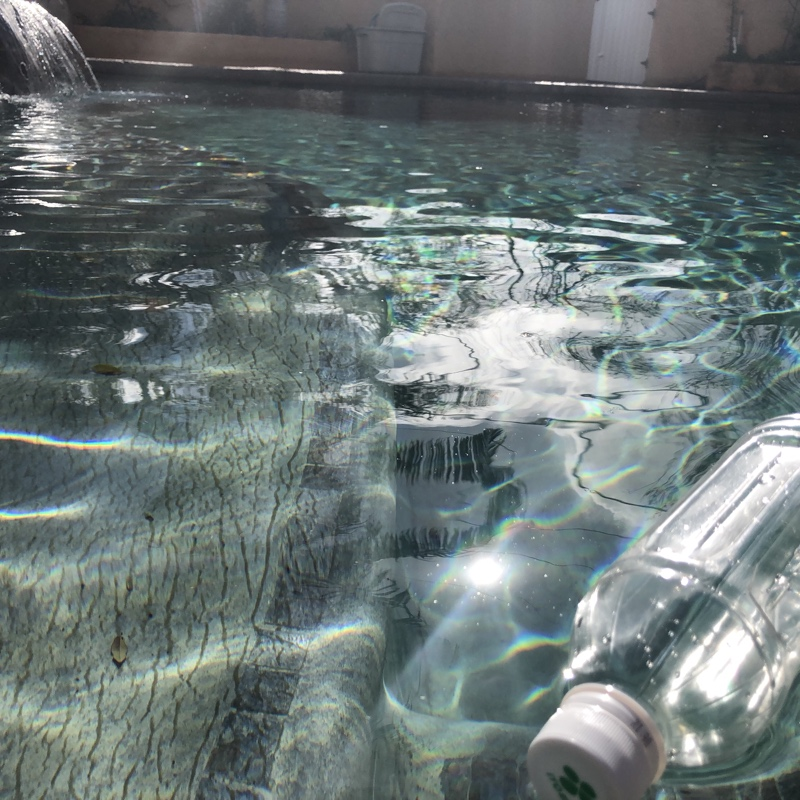Plastic Bottle: (514, 403, 800, 800)
